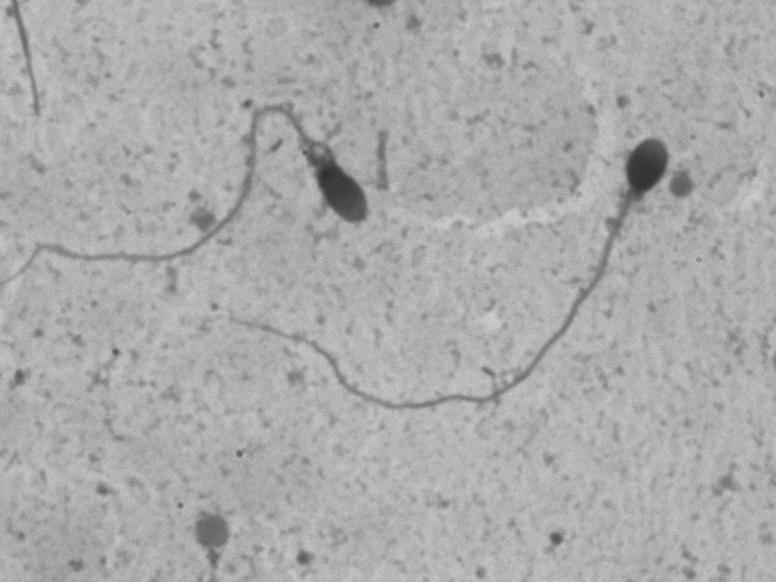Abnormal: (31, 74, 385, 290)
Normal: (209, 110, 686, 436)
